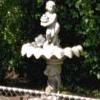Statue: (18, 0, 81, 86)
